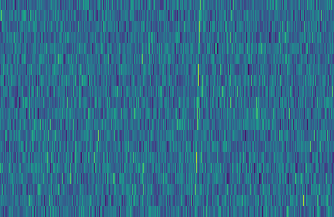signal: (190, 0, 205, 217)
